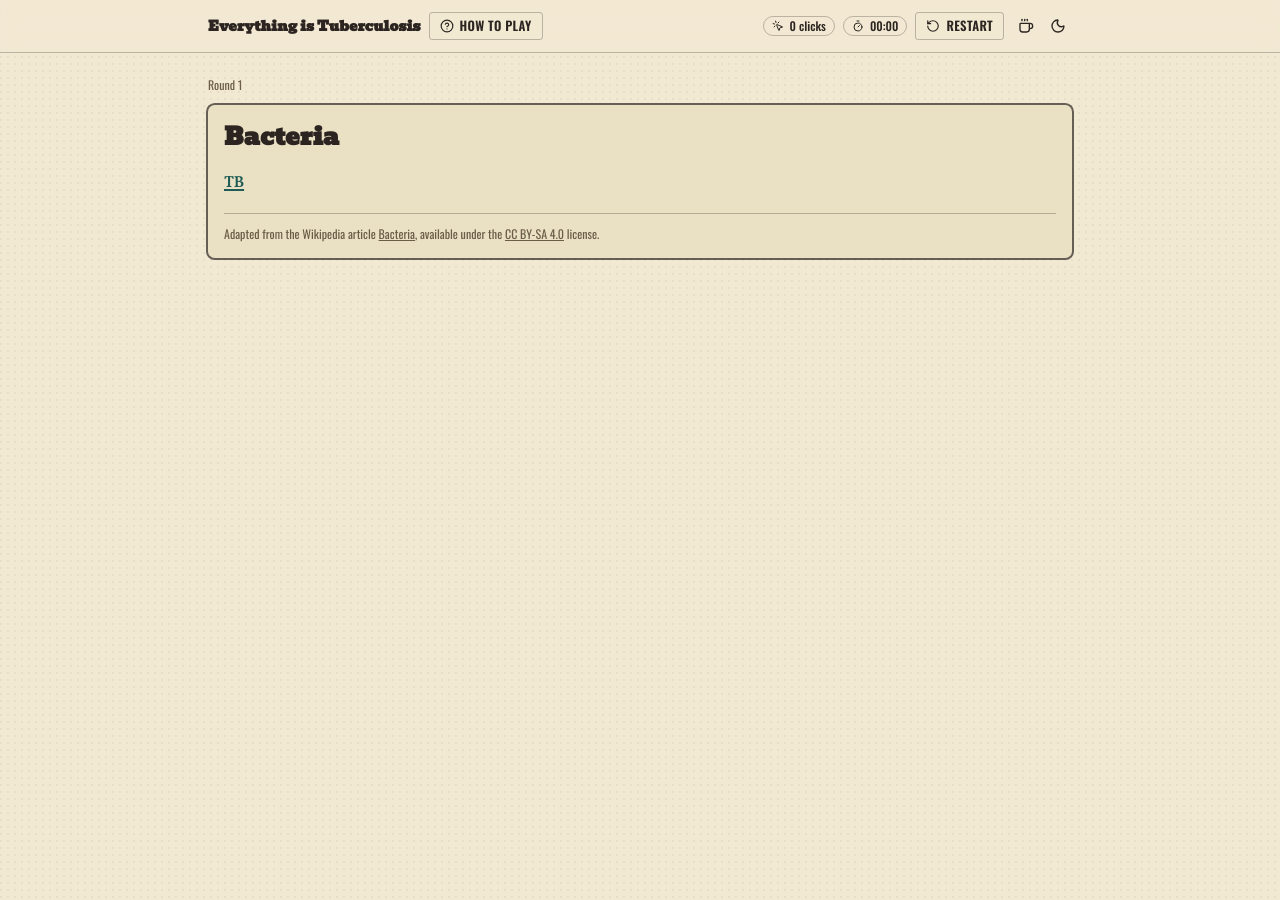
it: PartyRoom › plays a round end to end and reports the win
Click the link "TB".
click(234, 183)  # box left=224, top=172, right=244, bottom=194
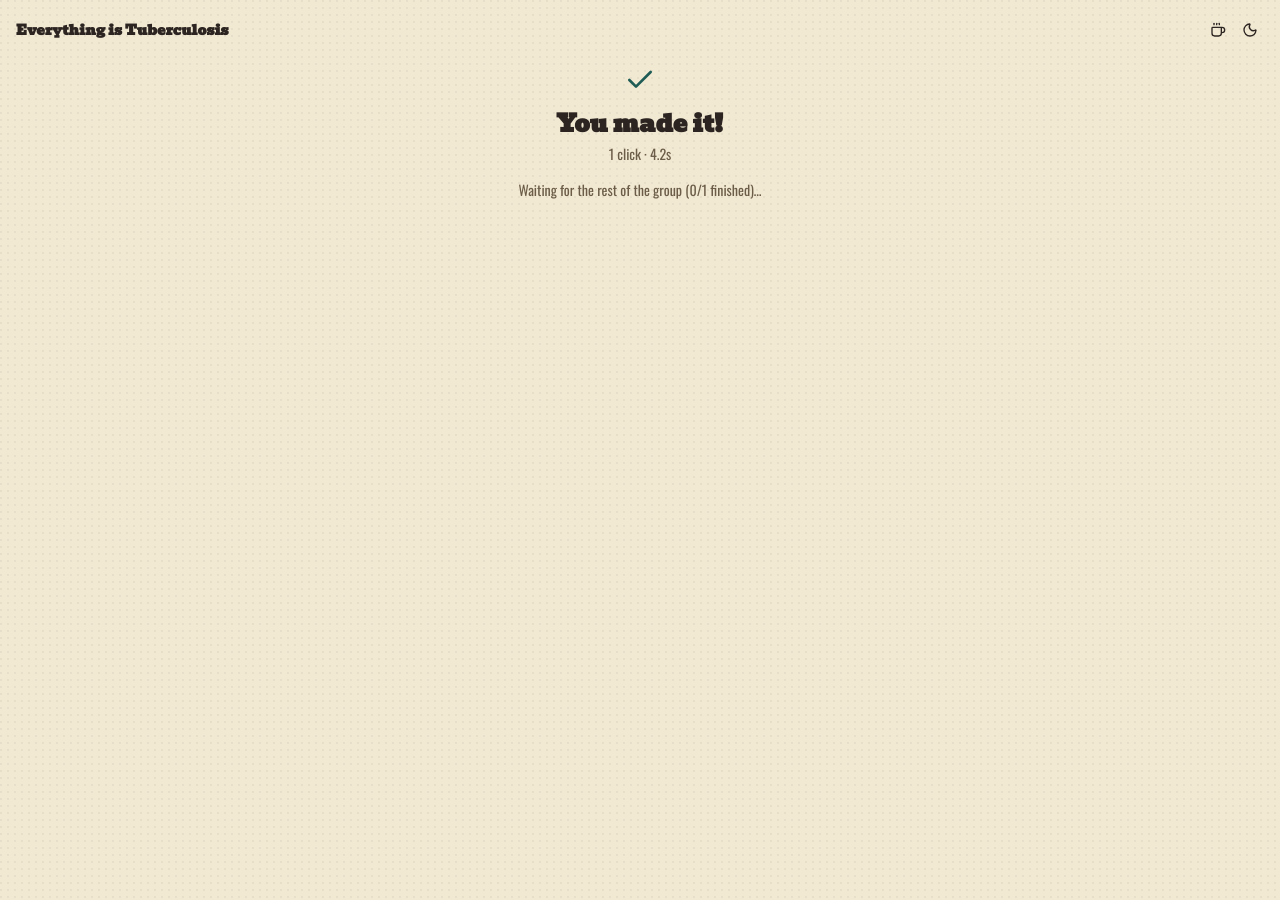
Check: the heading "You made it!" is shown, box left=557, top=104, right=723, bottom=143
Check: the text "1 click · 4.2s" is shown, box left=609, top=143, right=671, bottom=164
